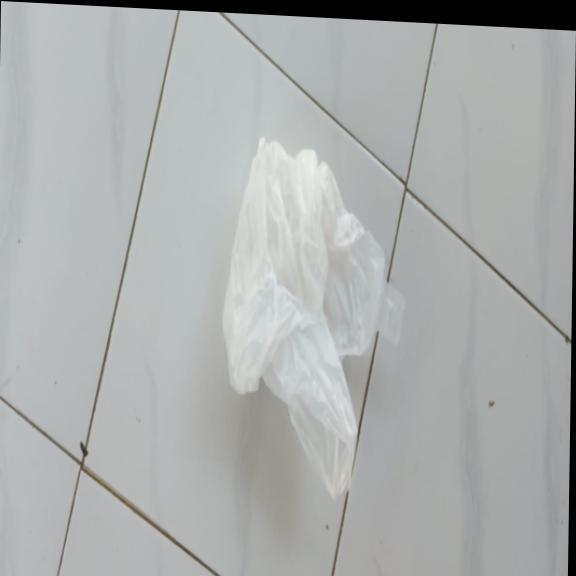Plastik: (218, 129, 407, 507)
